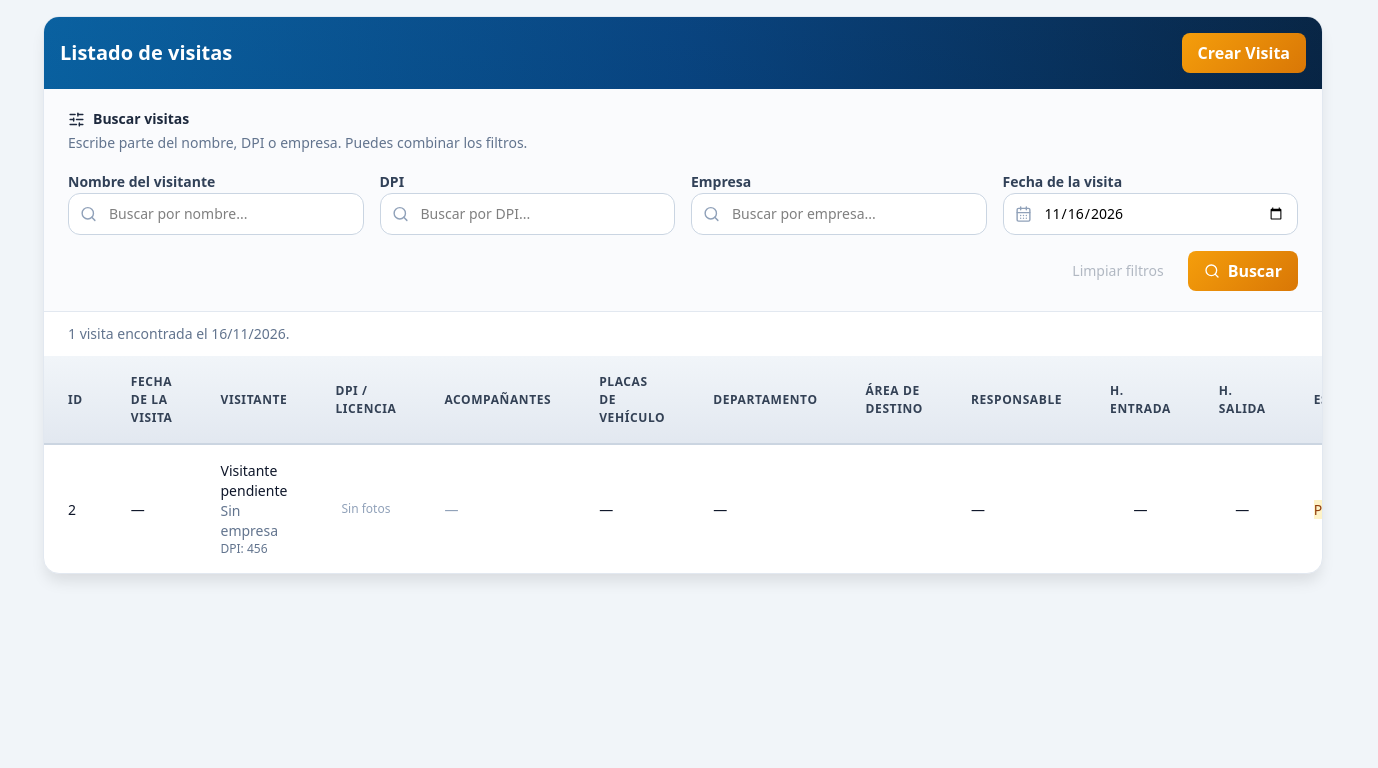
Test: buscador de visitas › limpia un campo manteniendo el foco y permite usar Escape
Type "Victor" into the field labelled "Nombre del visitante".
click(216, 214); type("Victor")  # box x1=68 y1=193 x2=364 y2=235
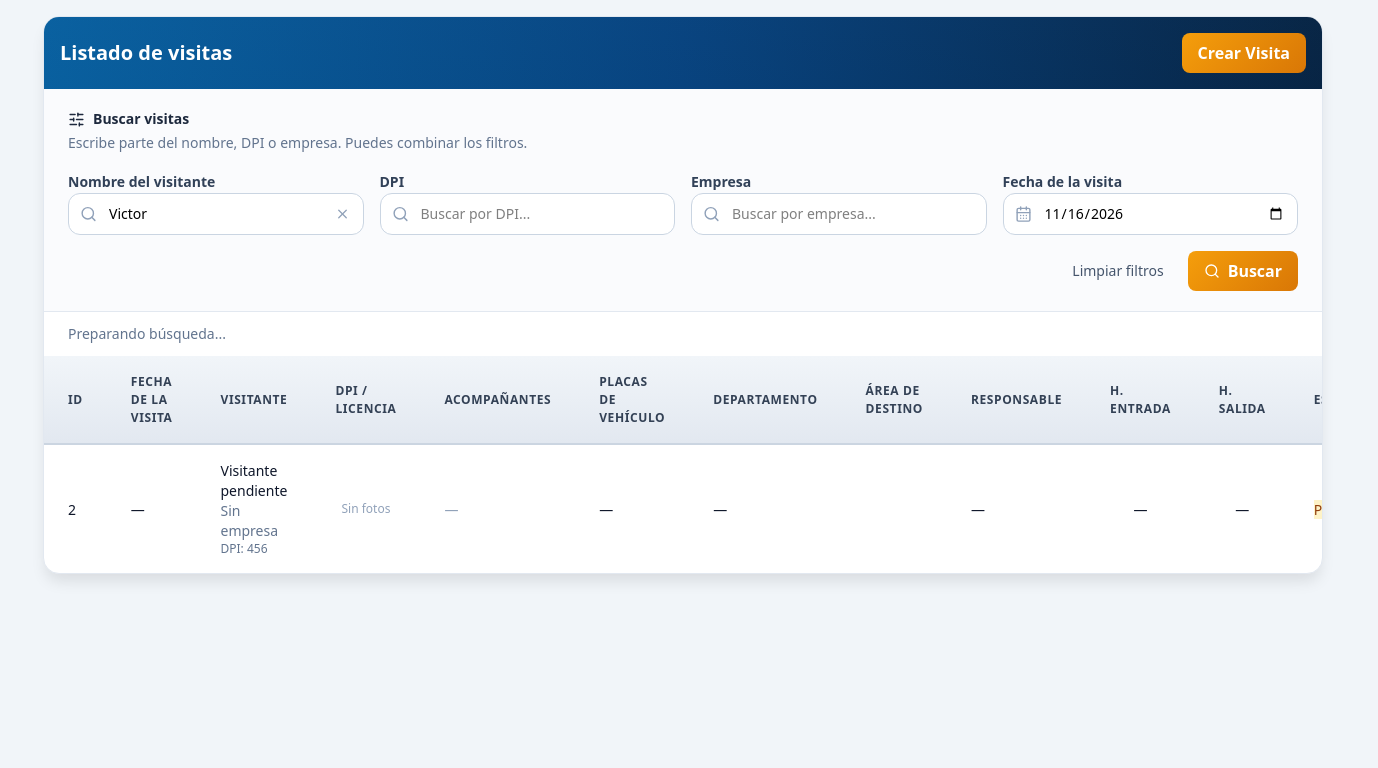
Click the button named "Limpiar nombre del visitante".
click(342, 214)  # box x1=326 y1=198 x2=358 y2=230
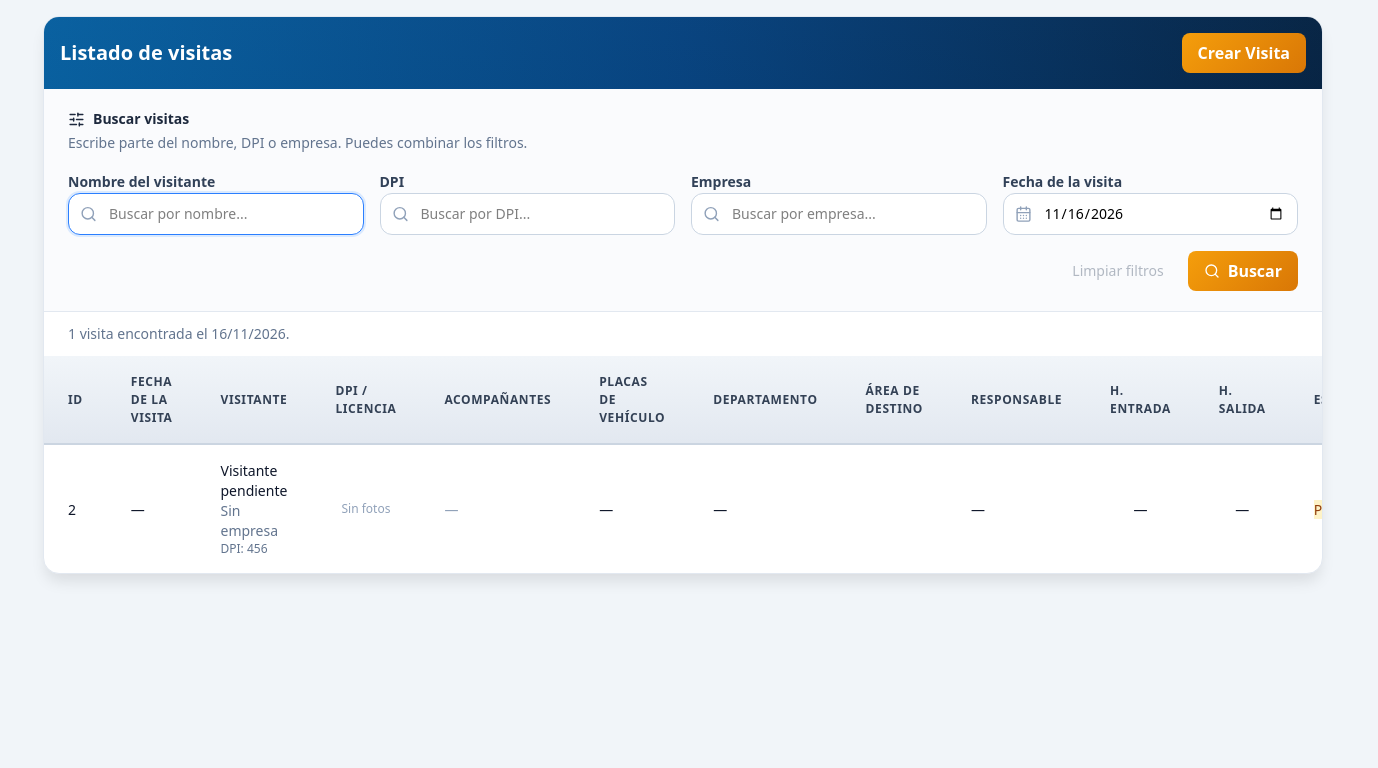
expect the field labelled "Nombre del visitante" is empty: met
Type "Victor" into the field labelled "Nombre del visitante".
click(216, 214); type("Victor")  # box x1=68 y1=193 x2=364 y2=235
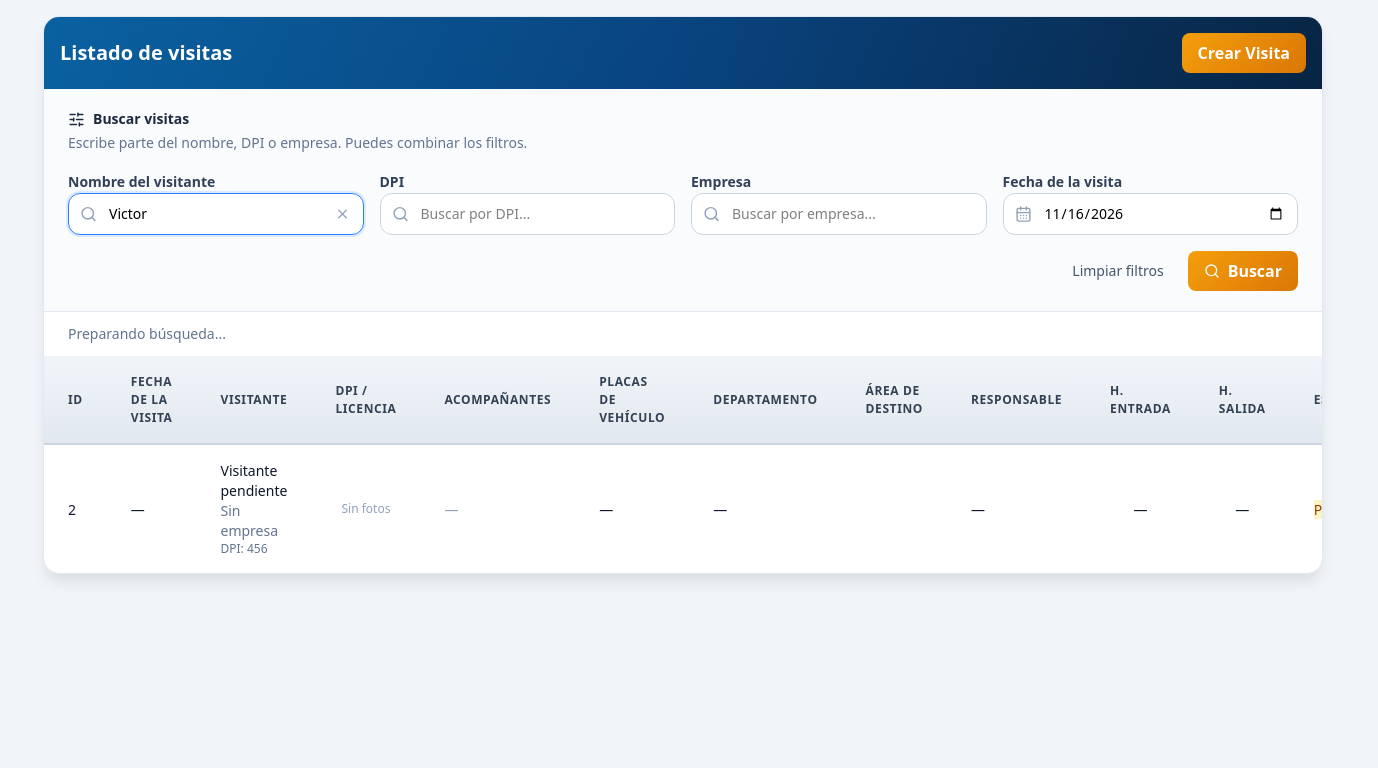
Press Escape in the field labelled "Nombre del visitante", box x1=68 y1=193 x2=364 y2=235
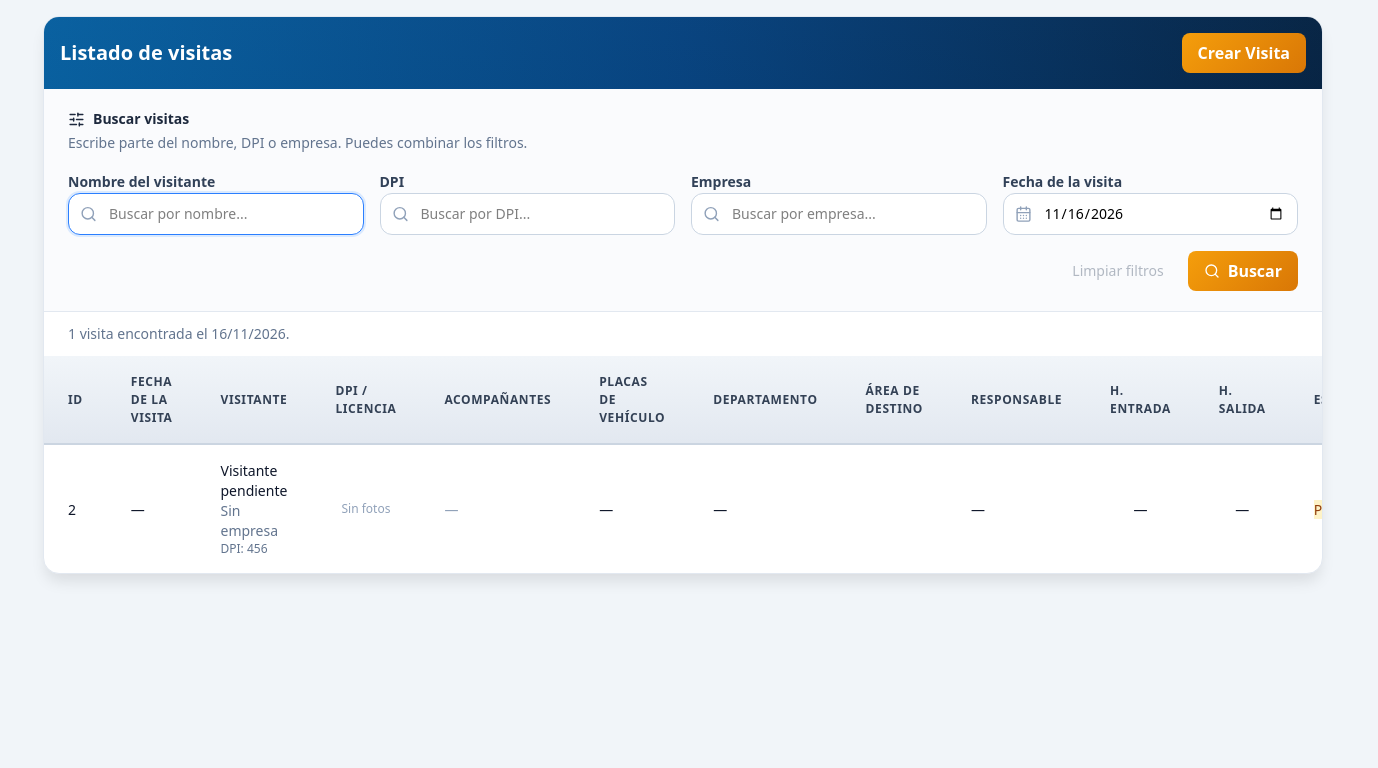
expect the field labelled "Nombre del visitante" is empty: met, box x1=68 y1=193 x2=364 y2=235
